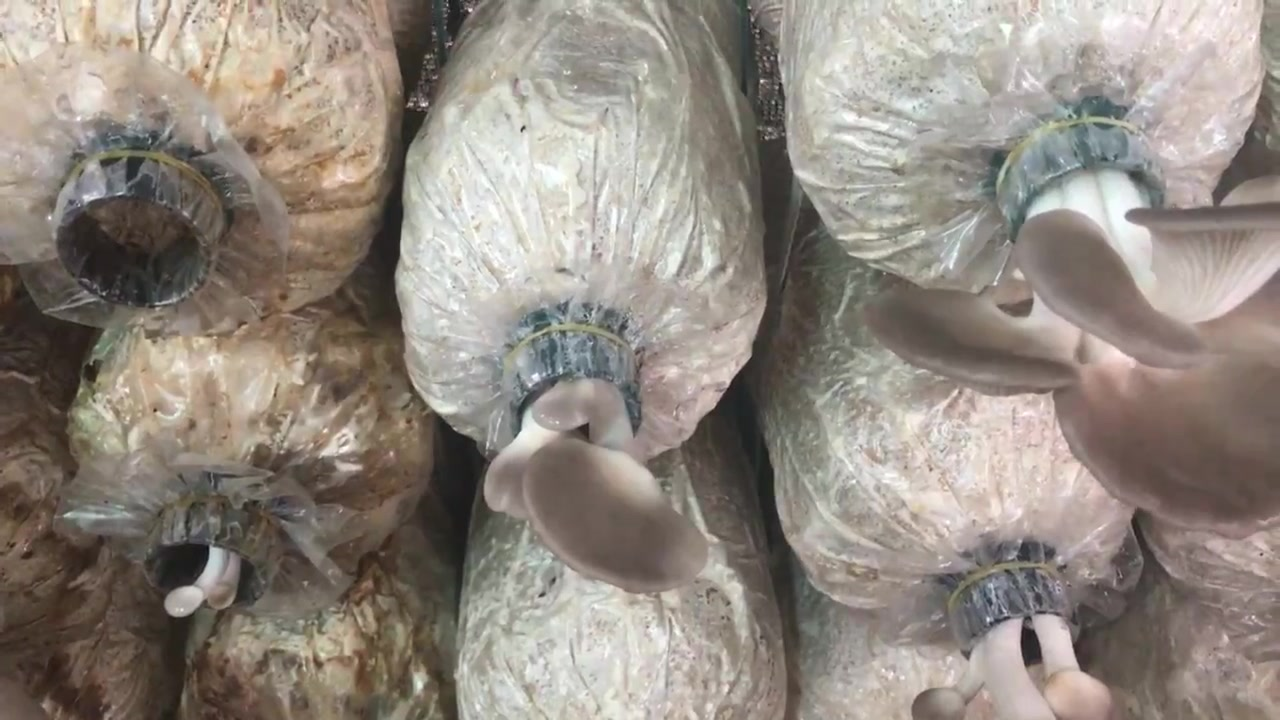nam: (863, 117, 1280, 532), (485, 313, 710, 596), (914, 550, 1114, 720), (146, 496, 284, 618)
